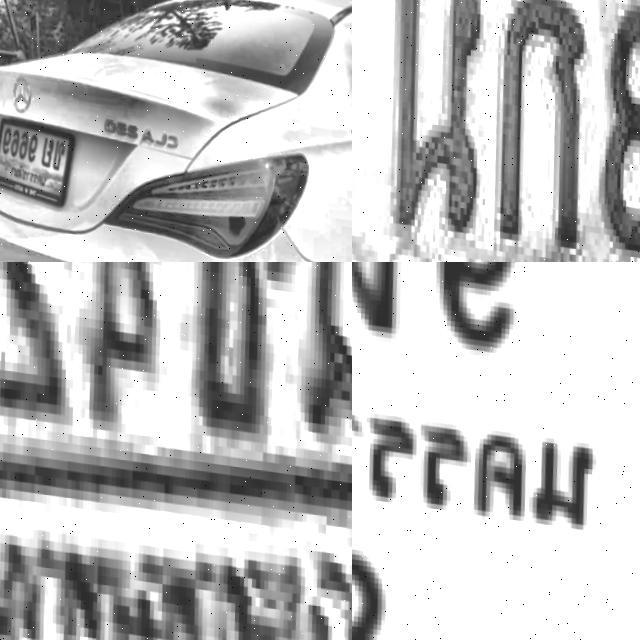license-plate: (0, 262, 352, 640), (352, 262, 640, 640), (352, 0, 640, 262), (0, 113, 76, 205)
